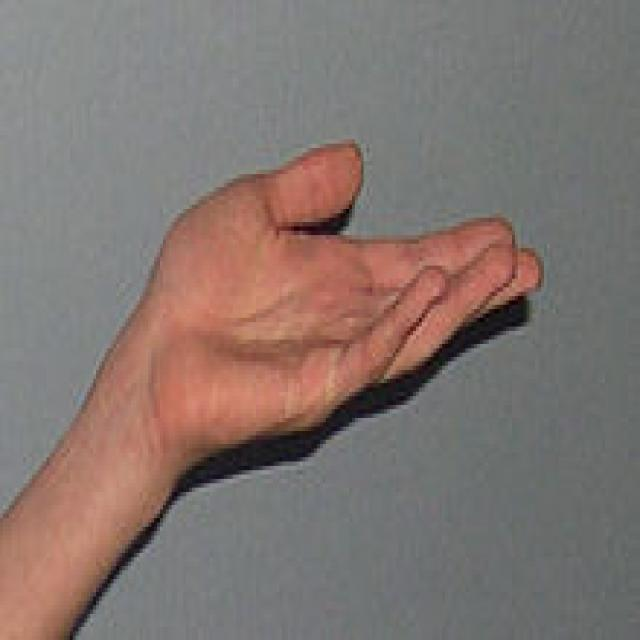hand: (0, 144, 538, 640)
